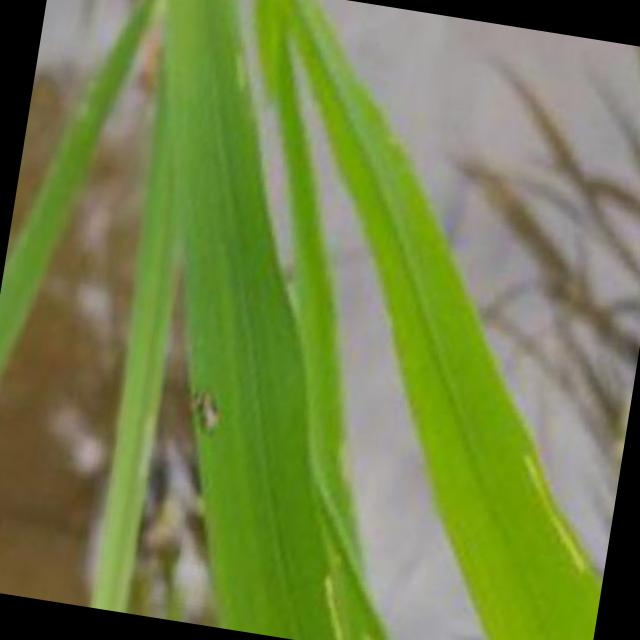rice-bug: (178, 372, 228, 435)
